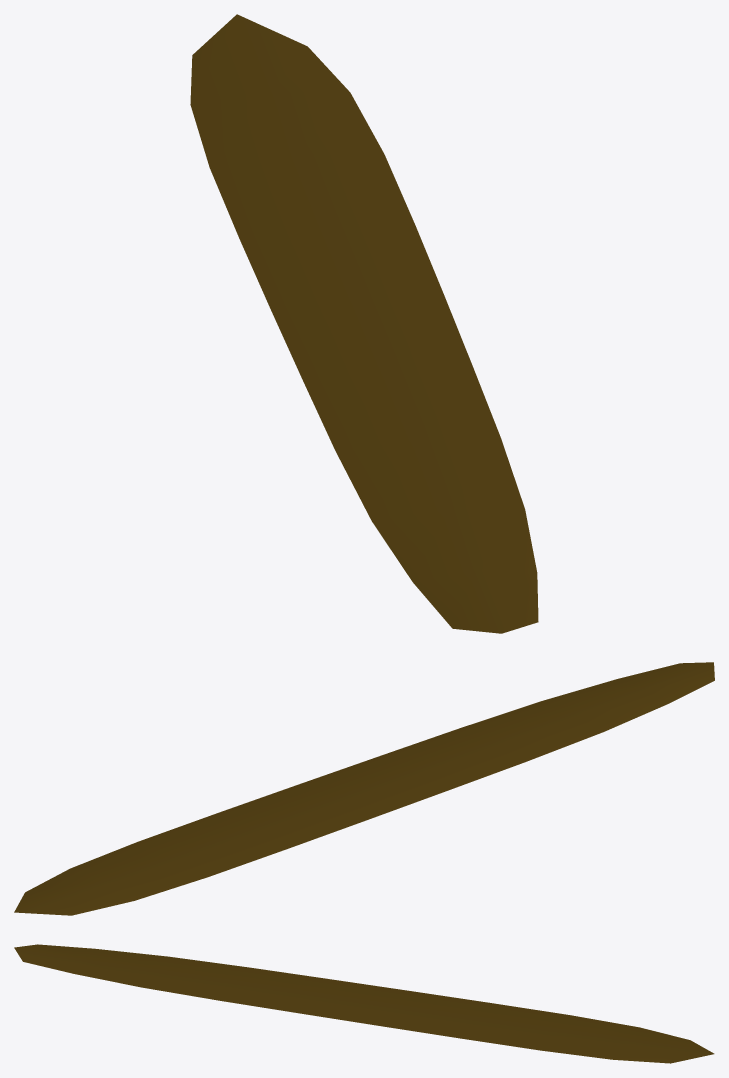
Rendered from canary_feather_tail_primary_002.obj.
The picture shows the model from 3 angles, top to bottom: view 1: azimuth 30°, elevation 25°; view 2: azimuth 150°, elevation 25°; view 3: azimuth 270°, elevation 25°; orthographic projection. The views are drawn at different scales.
Visible parts, largest first — view 1: feather_tail_primary_002; view 2: feather_tail_primary_002; view 3: feather_tail_primary_002.
Part boxes in pixels (x1,y1,x2,y2): feather_tail_primary_002: (190,14,538,633); feather_tail_primary_002: (14,662,714,915); feather_tail_primary_002: (14,944,714,1063).
Bounding box in the file's own units: 0.0169 × 0.000204 × 0.0419.
